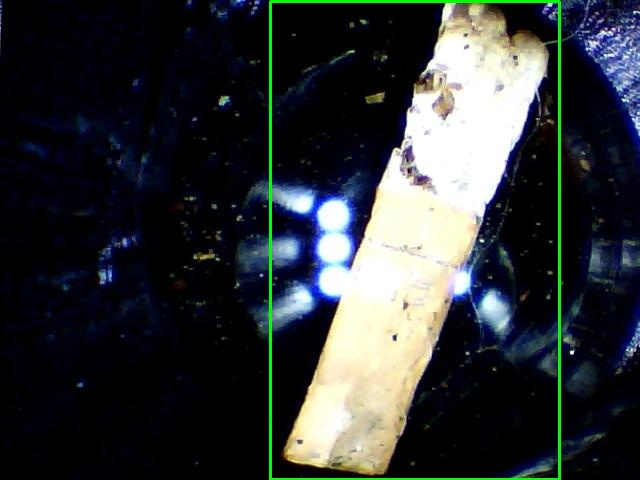megot: (270, 1, 559, 479)
